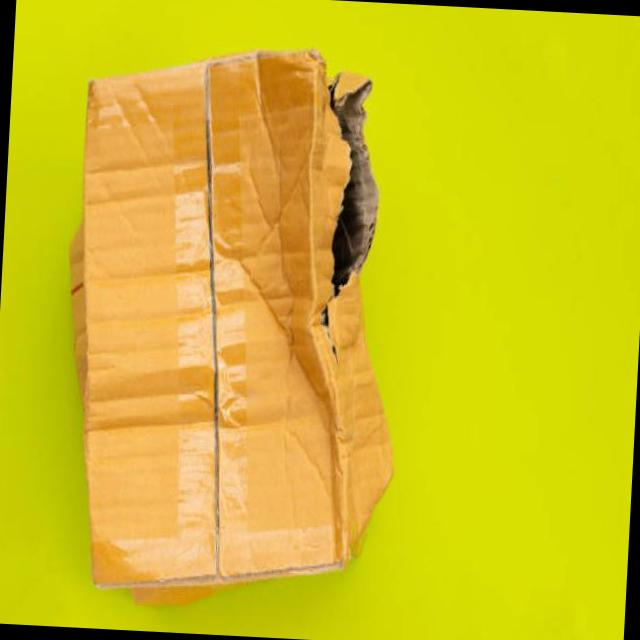box: (117, 43, 571, 575)
